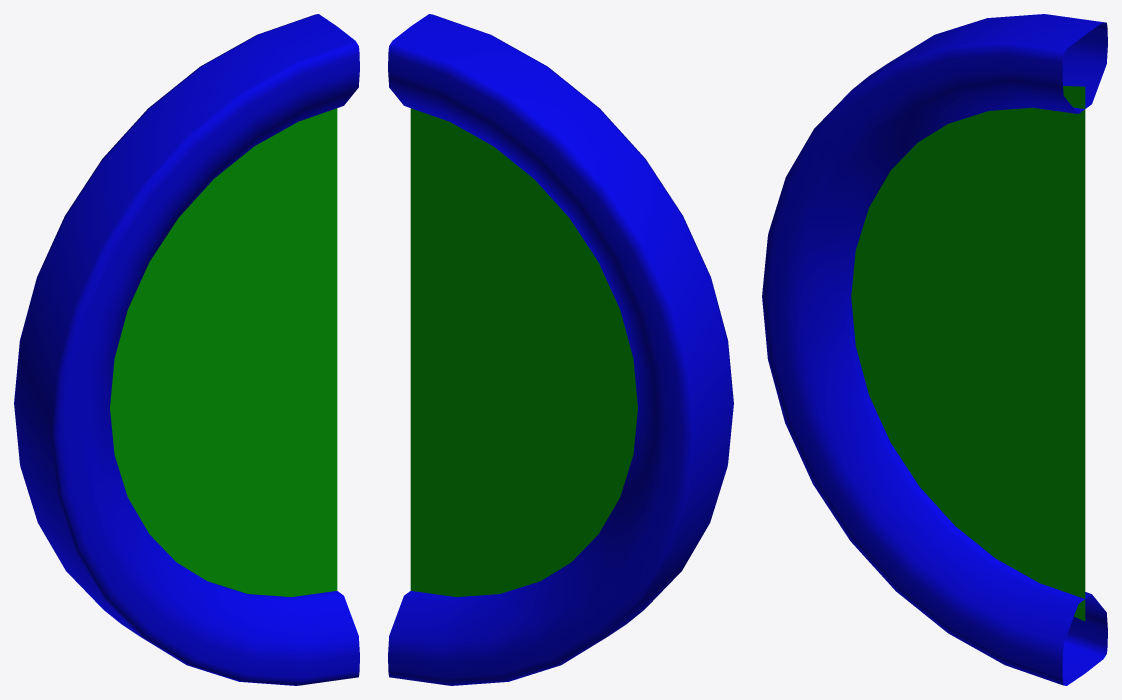
The model's file is HalfWindow.fbx.
3 views of the same model, side by side, from view 1: azimuth 30°, elevation 25°; view 2: azimuth 150°, elevation 25°; view 3: azimuth 330°, elevation 25° (orthographic).
Visible parts, largest first — view 1: Glass, Trim; view 2: Glass, Trim; view 3: Glass, Trim.
Part boxes in pixels (bbox=[...]): Glass: bbox=[110, 108, 337, 596]; Trim: bbox=[14, 14, 359, 685]; Glass: bbox=[410, 108, 637, 596]; Trim: bbox=[388, 14, 733, 685]; Glass: bbox=[851, 86, 1085, 621]; Trim: bbox=[762, 14, 1107, 685].
Size of the model in its own units: 3.45 by 6.89 by 0.888.
